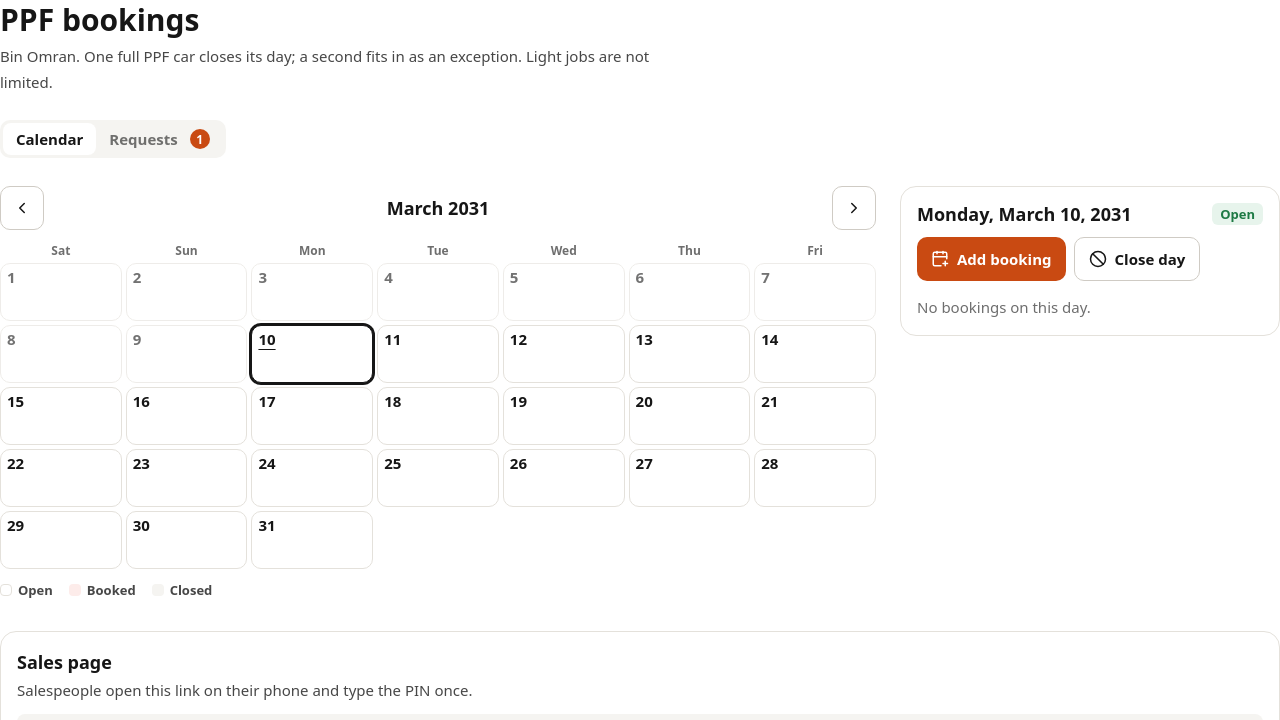
Test case: PPF requests inbox › shows how many are waiting on the tab, and each request in full
Step 1. Click the tab "Requests 1" → (160, 139), box x1=96 y1=122 x2=223 y2=155
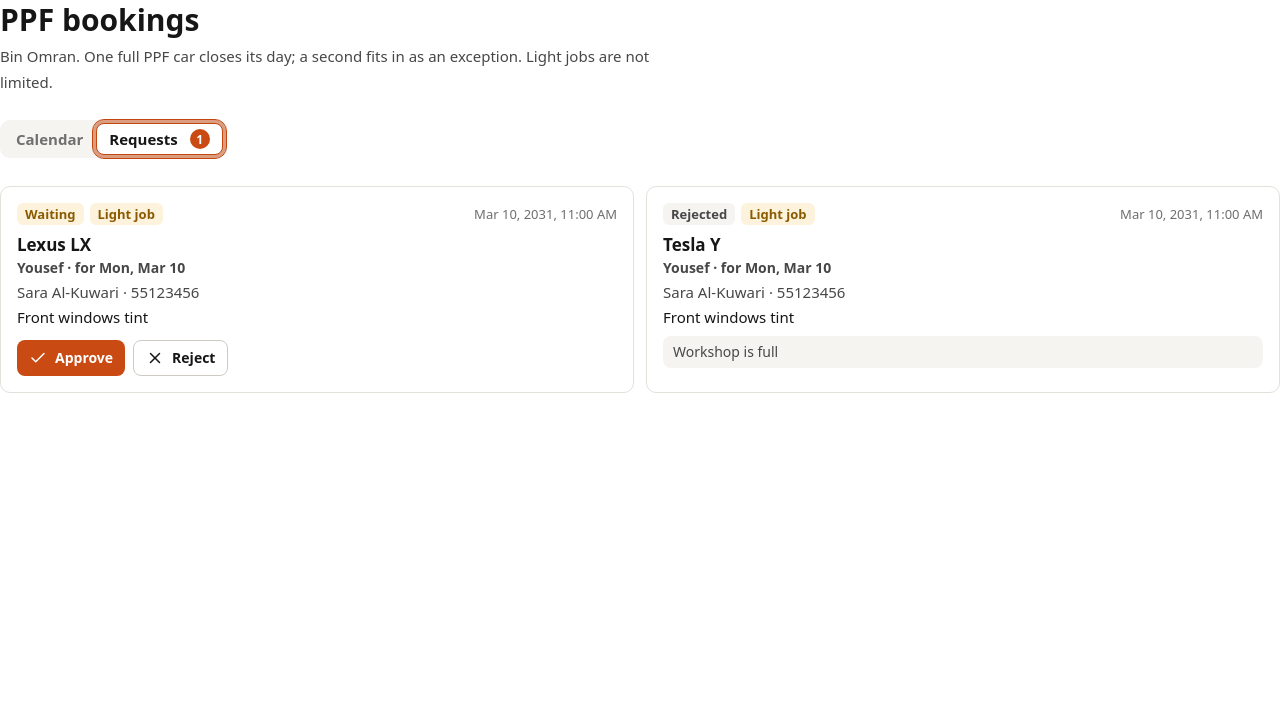
Check: the text "Waiting" is shown, box x1=17 y1=203 x2=84 y2=225
Check: the text "Yousef · for Mon, Mar 10" below "Lexus LX" is shown, box x1=17 y1=258 x2=185 y2=277
Check: the text "Front windows tint" below "Lexus LX" is shown, box x1=17 y1=307 x2=148 y2=327
